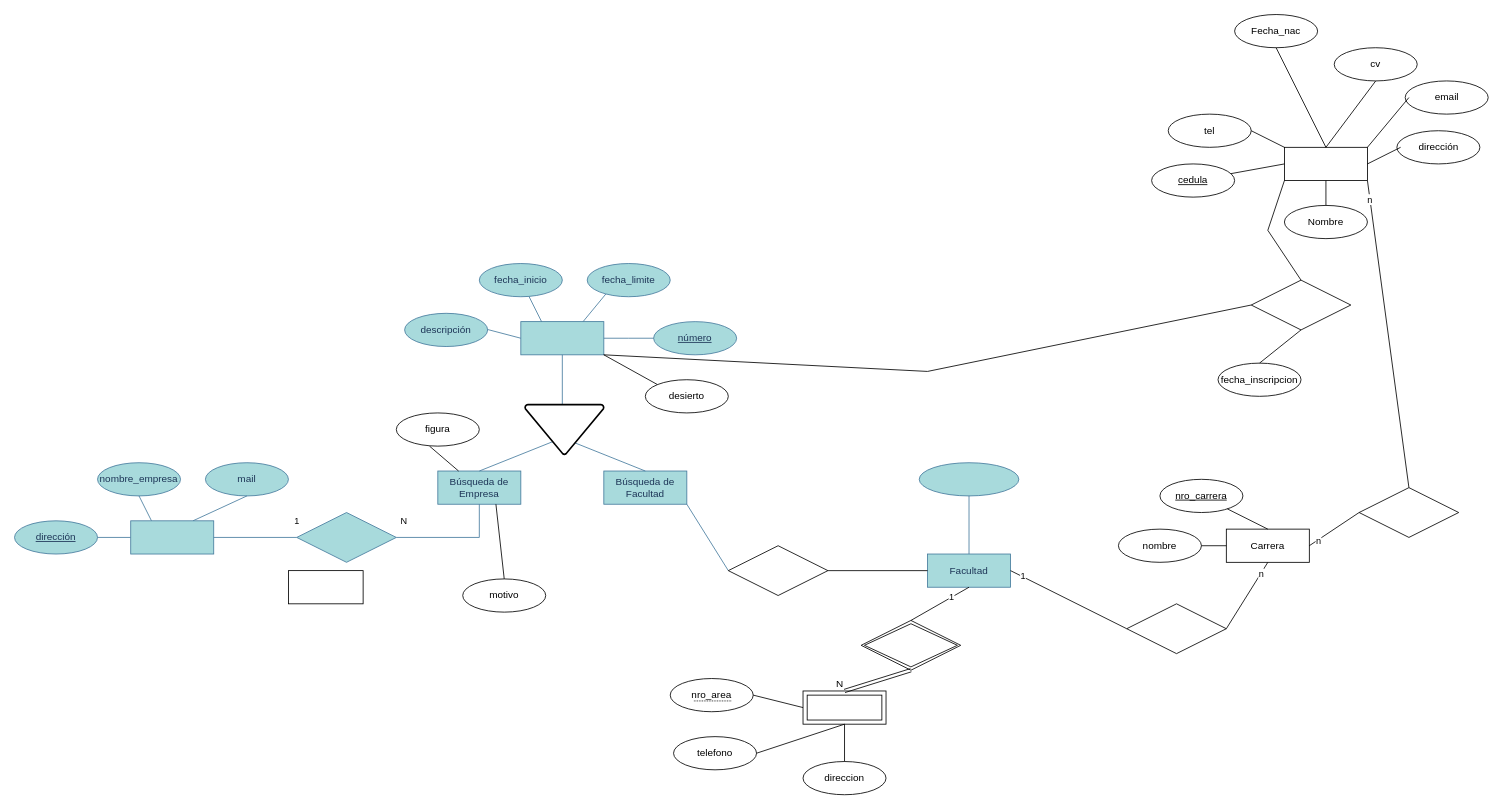
The diagram is 1503 pixels wide and 809 high, and some of its shapes have lost their labels. The shapes that lost their labels are listed below. From the top down, each one's centre as x and y in pixels, then its label:
At point (1325, 163): "Estudiante".
At point (1300, 304): "inscribe".
At point (562, 338): "Pedido de B úsqueda".
At point (564, 429): "de".
At point (968, 479): "nombre_institucion".
At point (1408, 512): "hace".
At point (172, 537): "Empresa".
At point (346, 537): "publica".
At point (325, 587): "duda".
At point (777, 570): "realiza".
At point (910, 645): "pertenece".
At point (1176, 628): "tiene".
At point (844, 707): "Area".
